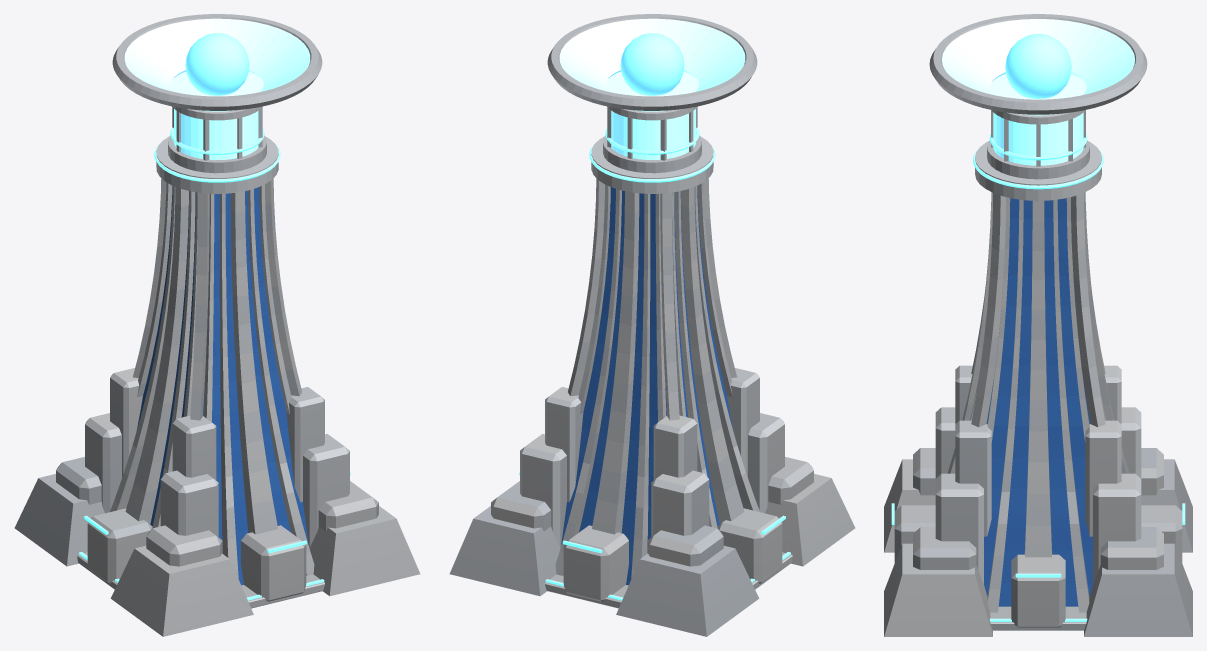
The model's file is deflecteur.glb.
The picture shows the model from 3 angles, left to right: view 1: azimuth 30°, elevation 25°; view 2: azimuth 150°, elevation 25°; view 3: azimuth 270°, elevation 25°; orthographic projection. The views are drawn at different scales.
Visible parts, largest first — view 1: deflecteur; view 2: deflecteur; view 3: deflecteur.
Part boxes in pixels (bbox=[...]): deflecteur: bbox=[14, 14, 420, 636]; deflecteur: bbox=[449, 14, 855, 636]; deflecteur: bbox=[884, 14, 1192, 636].
Size of the model in its own units: 2.04 by 3.9 by 2.04.
